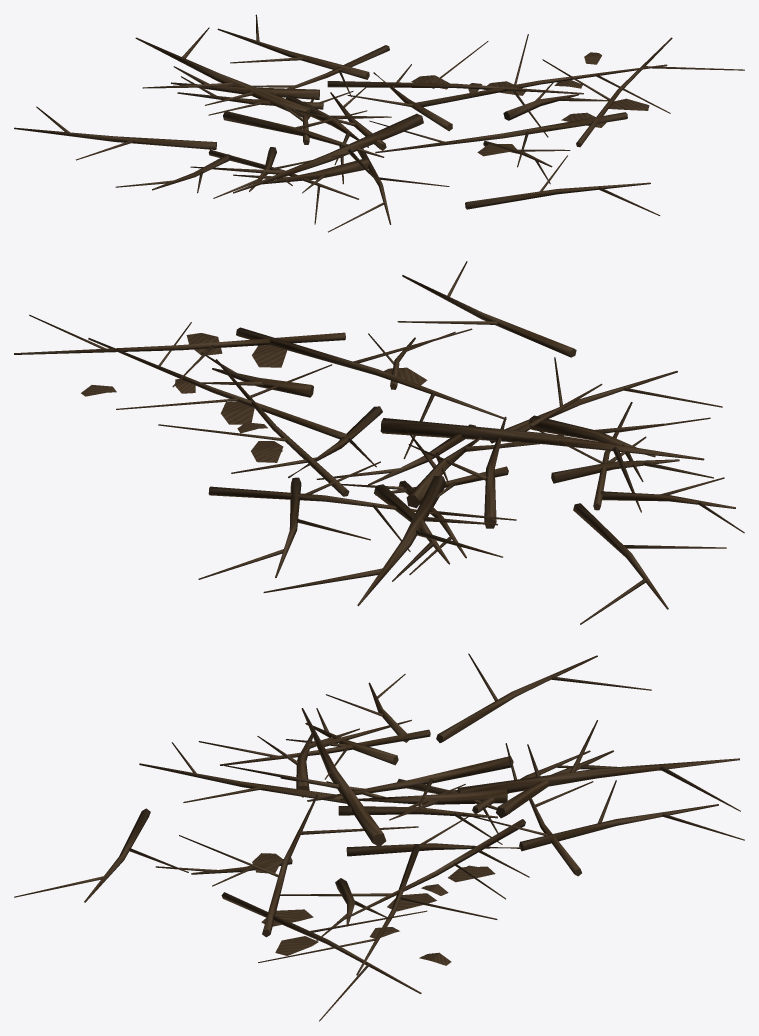
The model's file is Small_Deadwood_Scatter_01_LOD1.fbx.
The picture shows the model from 3 angles, top to bottom: view 1: azimuth 30°, elevation 25°; view 2: azimuth 150°, elevation 25°; view 3: azimuth 270°, elevation 25°; orthographic projection. The views are drawn at different scales.
Parts seen in each view (by area): view 1: Small_Deadwood_Scatter_01_LOD1_Mesh; view 2: Small_Deadwood_Scatter_01_LOD1_Mesh; view 3: Small_Deadwood_Scatter_01_LOD1_Mesh.
Part boxes in pixels (left/top/right/bottom): Small_Deadwood_Scatter_01_LOD1_Mesh: left=14, top=14, right=744, bottom=232; Small_Deadwood_Scatter_01_LOD1_Mesh: left=14, top=261, right=744, bottom=624; Small_Deadwood_Scatter_01_LOD1_Mesh: left=14, top=653, right=744, bottom=1021.
Size of the model in its own units: 182 by 4.84 by 157.
